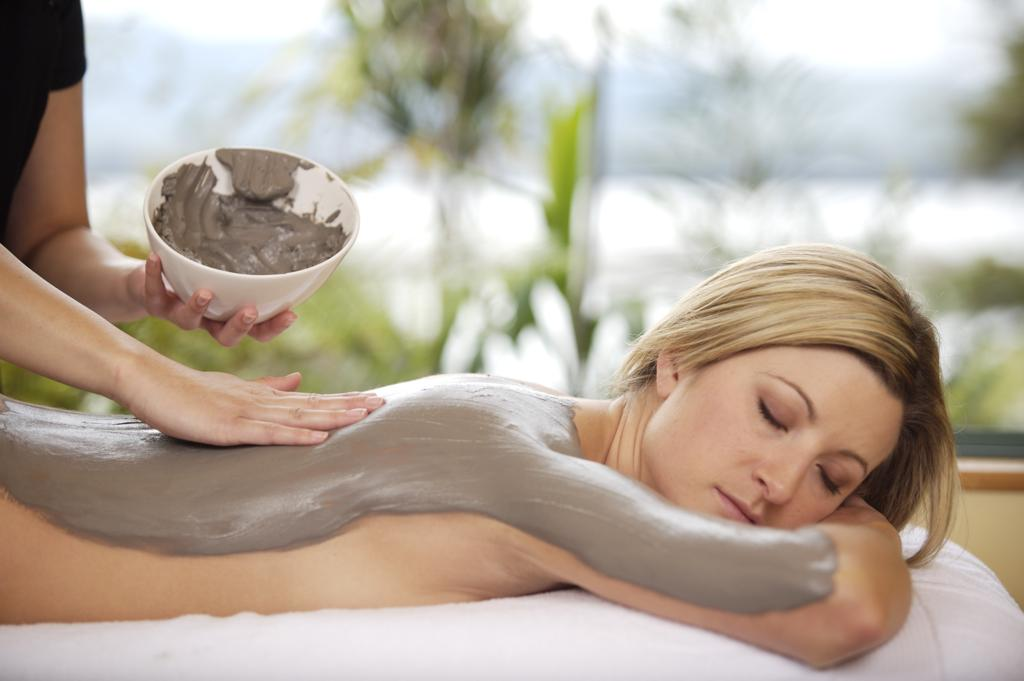face: (668, 380, 884, 530)
